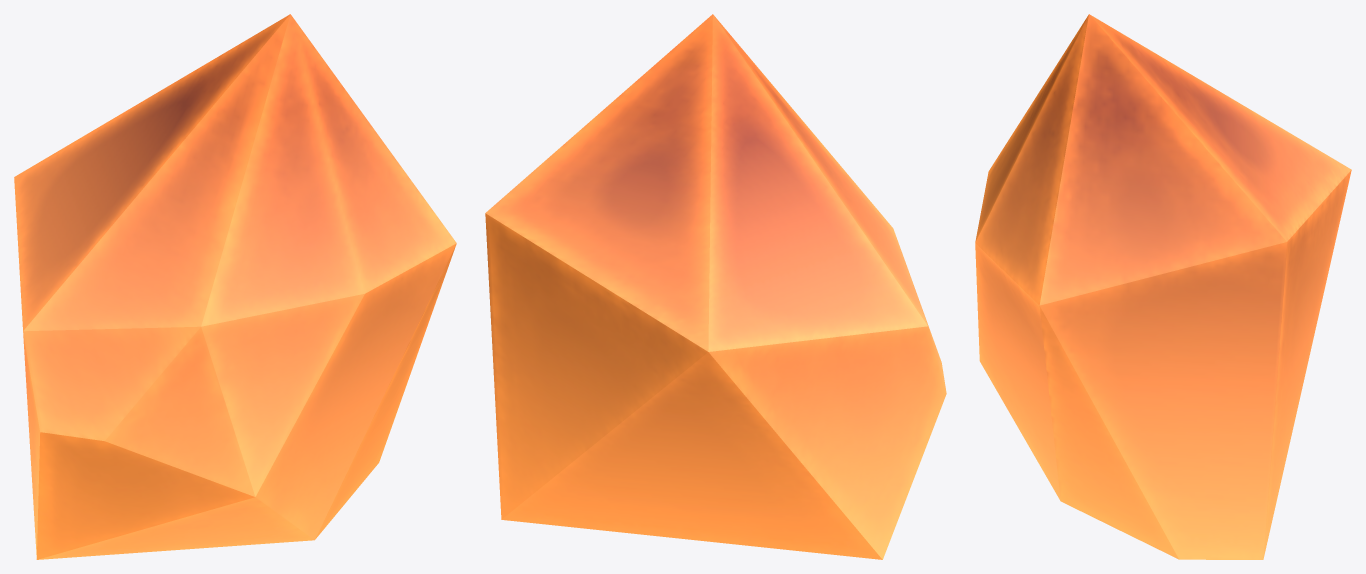
Rendered from crystal_piece_005.fbx.
3 views of the same model, side by side, from view 1: azimuth 30°, elevation 25°; view 2: azimuth 150°, elevation 25°; view 3: azimuth 270°, elevation 25° (orthographic). The views are drawn at different scales.
Visible parts, largest first — view 1: crystal_piece_005; view 2: crystal_piece_005; view 3: crystal_piece_005.
Boxes of the visible parts, x1=… form: crystal_piece_005: x1=14, y1=14, x2=456, y2=559; crystal_piece_005: x1=485, y1=14, x2=946, y2=559; crystal_piece_005: x1=975, y1=14, x2=1351, y2=559.
Size of the model in its own units: 0.4619 by 0.5778 by 0.408.
1 material, 1 textured.
